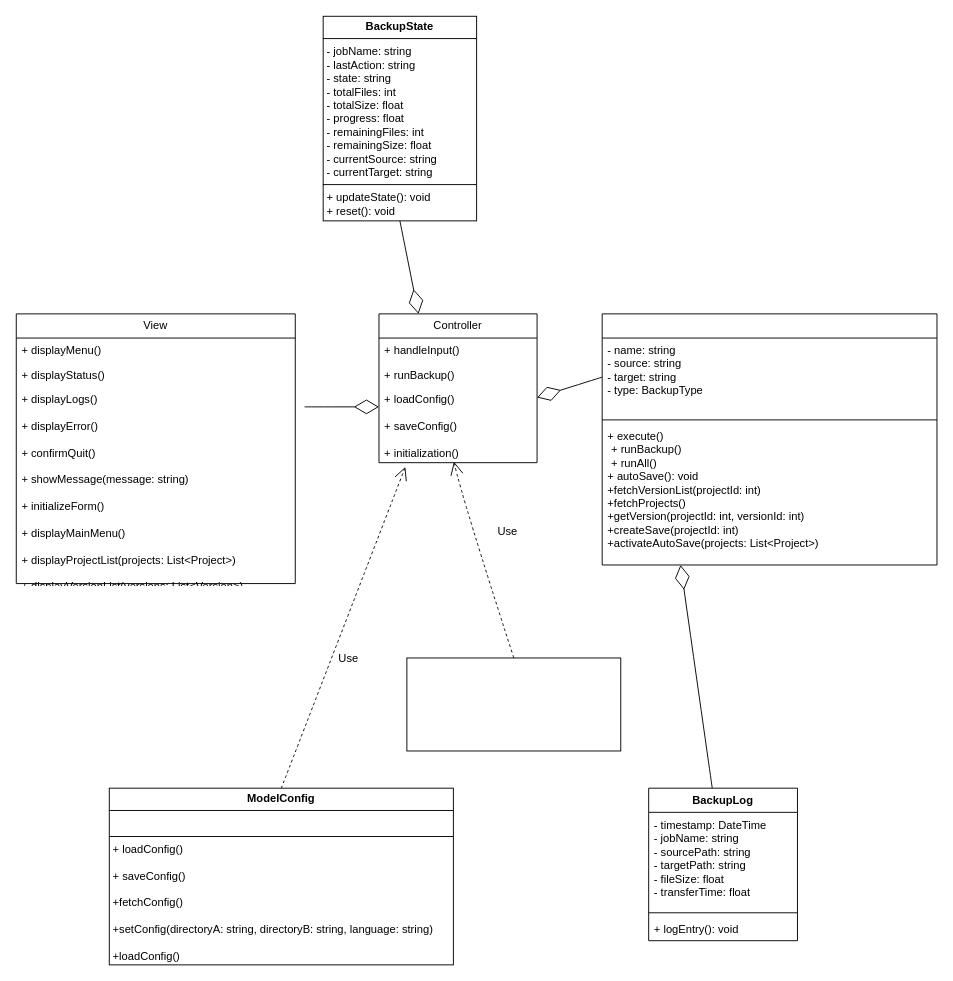
This 953x981 diagram has some shape labels left out. Here are the shapes that lost their labels. From the top down, the box of each, then its label:
(601, 313, 937, 565): ModelBackup
(406, 657, 621, 751): Logger + writeLog(string) + getConfig() +Log(message: string, level: string)
